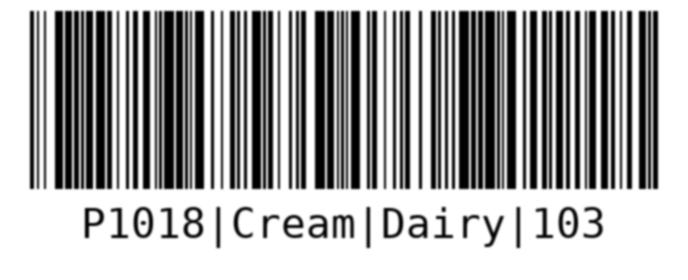milk: (27, 5, 662, 243)
